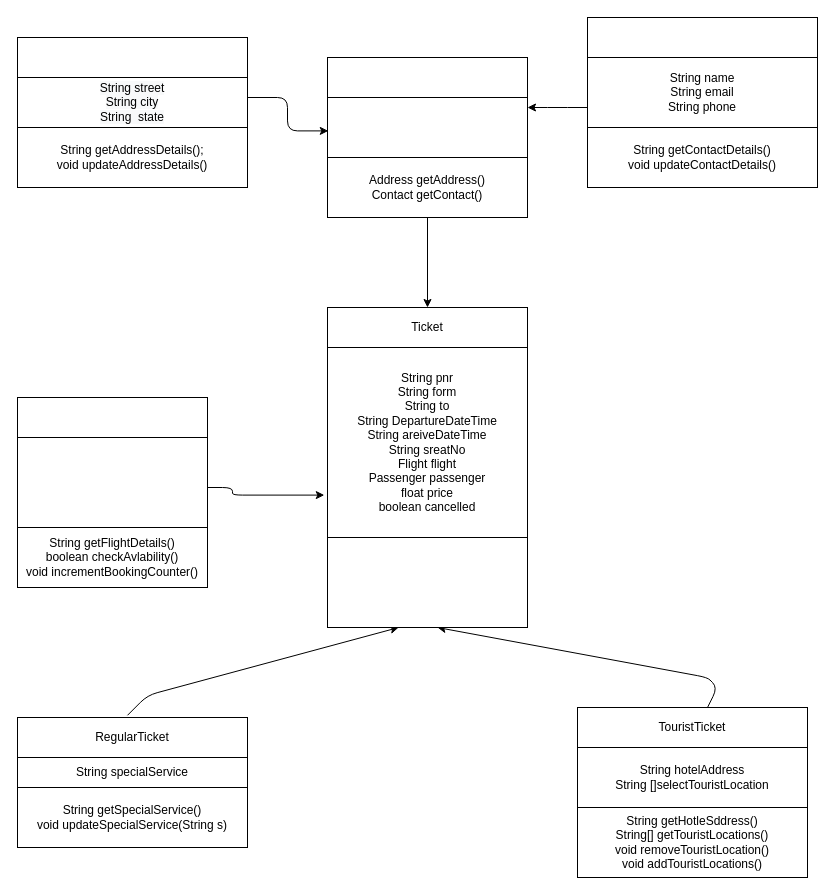
Some shapes in this 835 by 895 pixel diagram are drawn without their labels. Each missing label, with the box of its shape:
Address: (16, 36, 248, 78)
Contact: (586, 16, 818, 58)
Flight: (16, 396, 208, 438)
int id Address address Contact contact: (326, 96, 528, 158)
Passenger: (326, 56, 528, 98)
String cheakStatus() void cancel() int getFlightDuration(): (326, 536, 528, 628)
String flightNumber String airline int capacity int bookedSeates: (16, 436, 208, 528)
